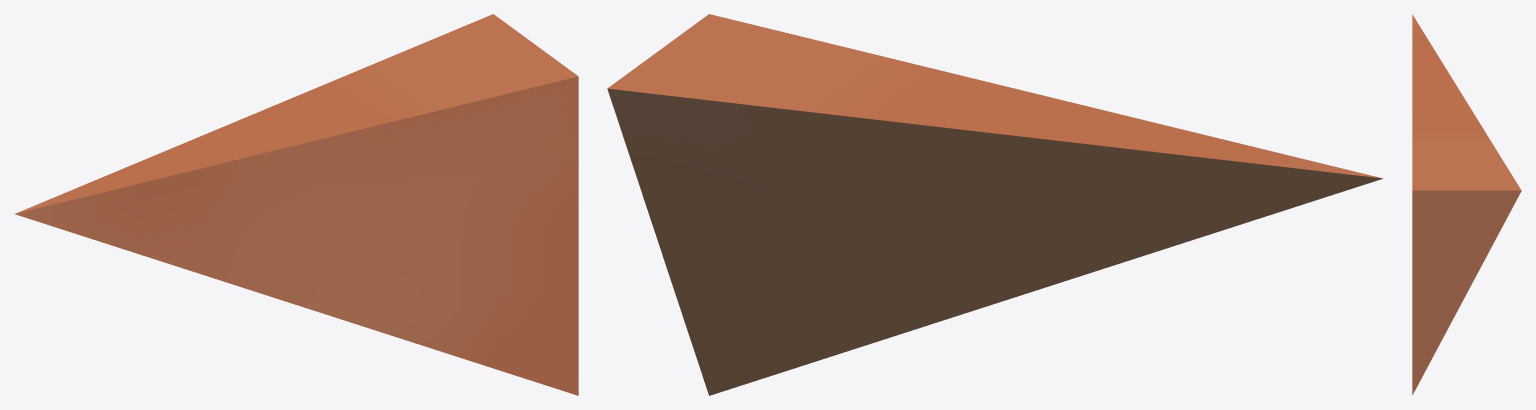
The model's file is well_s09.fbx.
3 renders of one model, left to right at view 1: azimuth 30°, elevation 25°; view 2: azimuth 150°, elevation 25°; view 3: azimuth 270°, elevation 25°, orthographic. The views are drawn at different scales.
Parts seen in each view (by area): view 1: well_s09; view 2: well_s09; view 3: well_s09.
Boxes of the visible parts, box(x1,y1,x2,y2) form: well_s09: box(15, 14, 578, 395); well_s09: box(607, 14, 1382, 395); well_s09: box(1412, 14, 1521, 395).
Bounding box in the file's own units: 0.1807 × 0.0978 × 0.0473.
